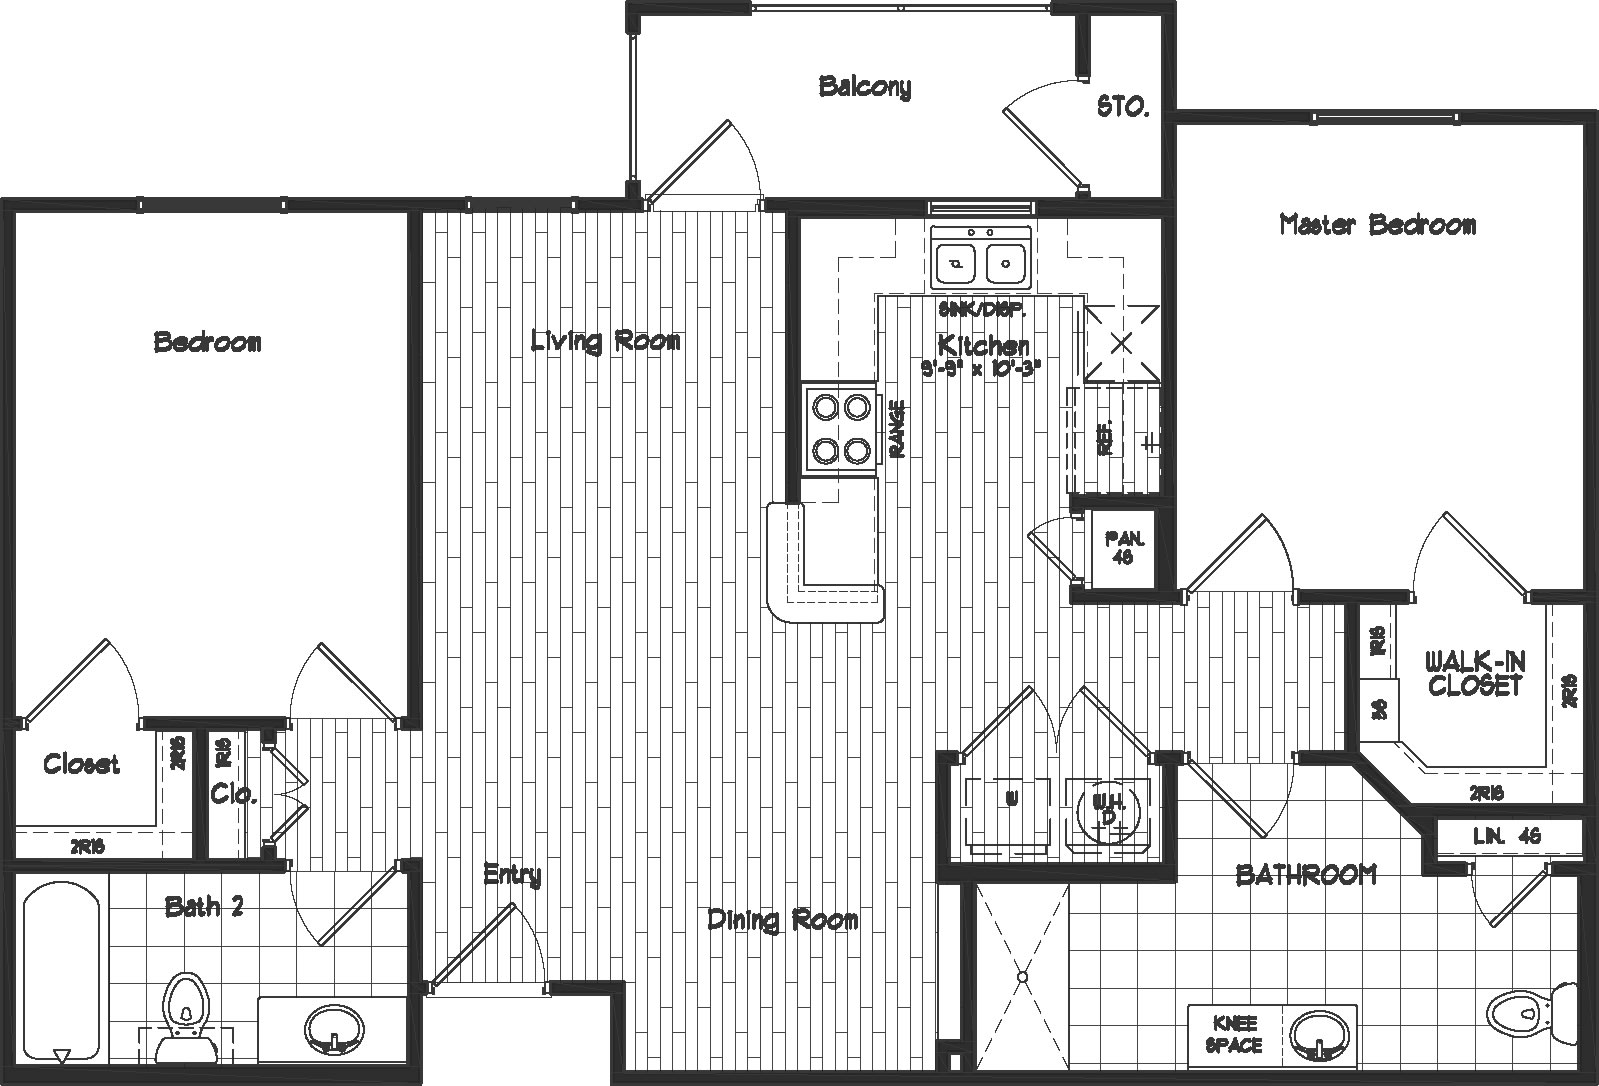door: (1395, 503, 1521, 581), (994, 67, 1083, 177), (29, 627, 141, 713), (276, 628, 387, 713), (1192, 495, 1290, 578), (659, 110, 763, 185)
